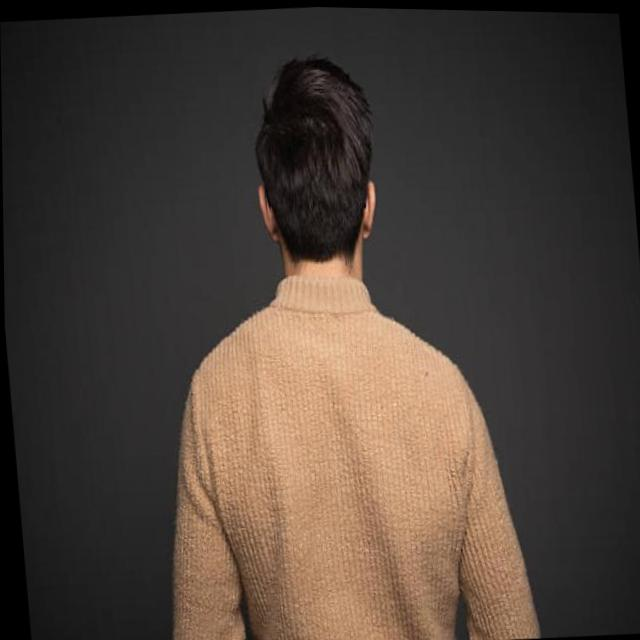no helmet: (240, 58, 391, 300)
